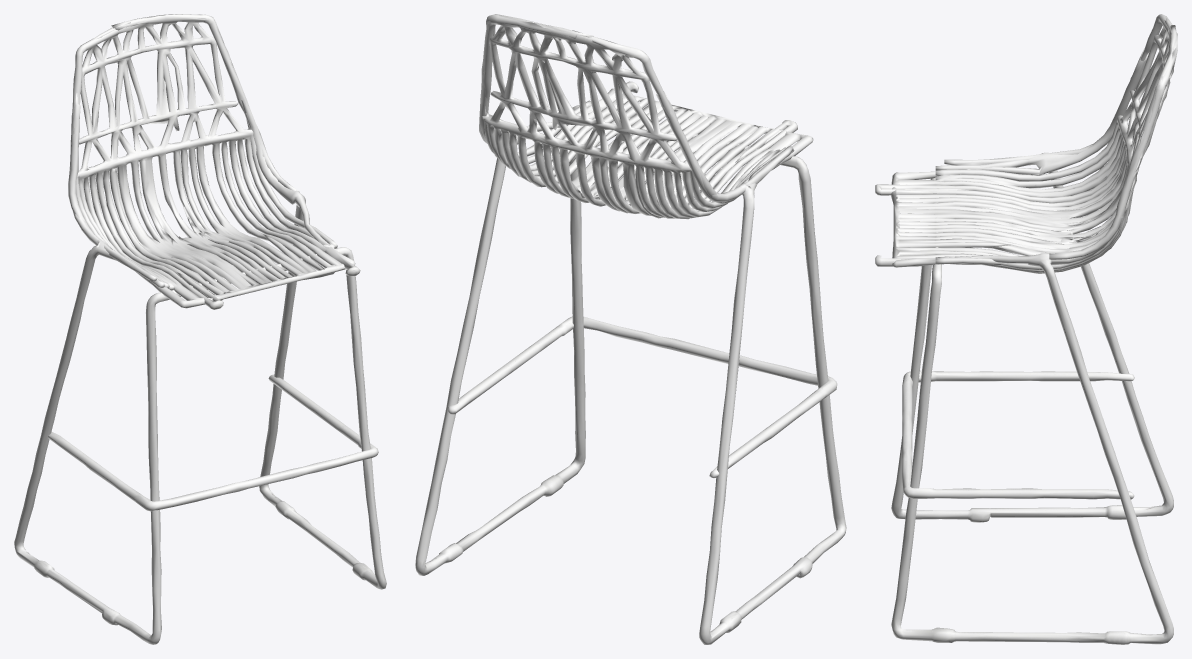
File: White_Metal_Bar_Stool_0404163753_texture.glb
3 renders of one model, left to right at view 1: azimuth 30°, elevation 25°; view 2: azimuth 150°, elevation 25°; view 3: azimuth 270°, elevation 25°, orthographic. The views are drawn at different scales.
Visible parts, largest first — view 1: Mesh_0; view 2: Mesh_0; view 3: Mesh_0.
Boxes of the visible parts, left/top/right/bottom form: Mesh_0: left=14, top=14, right=386, bottom=644; Mesh_0: left=415, top=14, right=846, bottom=644; Mesh_0: left=875, top=14, right=1177, bottom=644.
Size of the model in its own units: 0.607 by 1.17 by 0.5878.
1 material, 1 textured.
